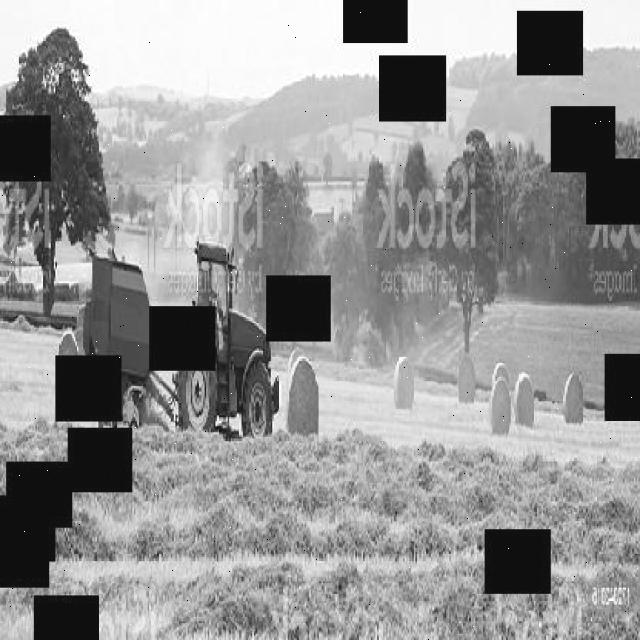Tratores - v5 YOLO V8L 2024-11-13: (170, 124, 288, 503)
